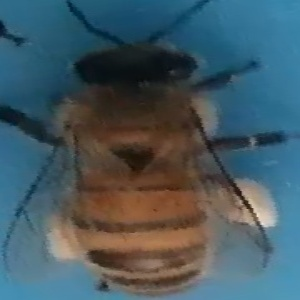bee: (27, 27, 292, 295)
